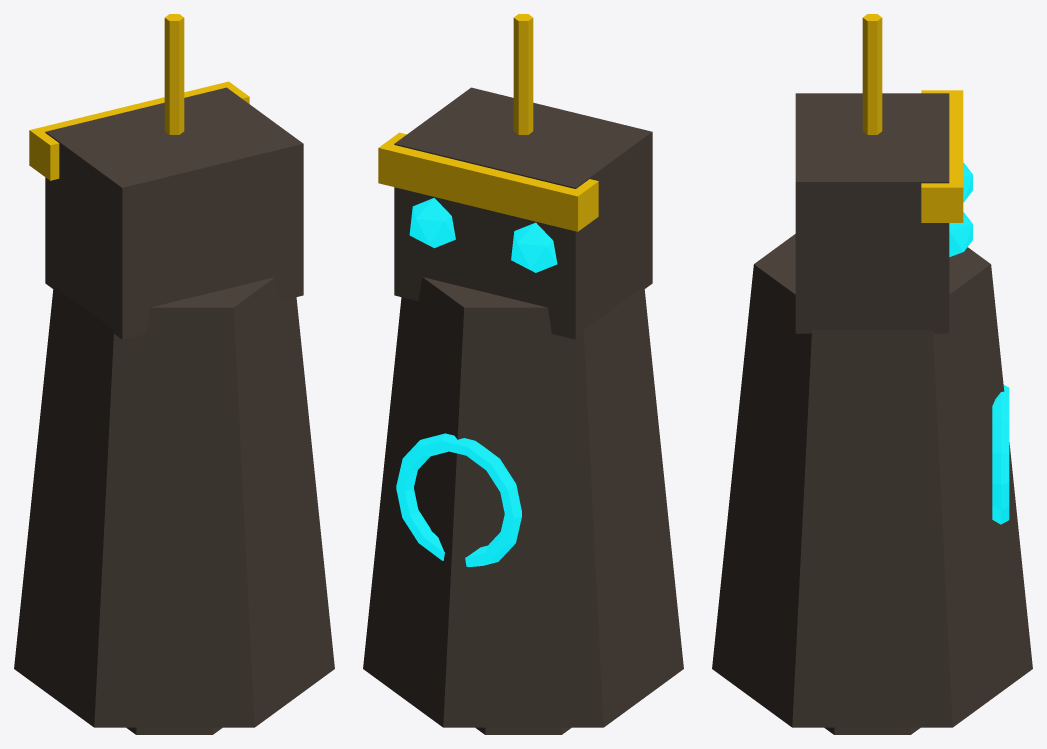
The model's file is idol_dron.glb.
3 views of the same model, side by side, from view 1: azimuth 30°, elevation 25°; view 2: azimuth 150°, elevation 25°; view 3: azimuth 270°, elevation 25° (orthographic).
Visible parts, largest first — view 1: idol_dron; view 2: idol_dron; view 3: idol_dron.
Boxes of the visible parts, <box> form: idol_dron: <box>14,14,334,734</box>; idol_dron: <box>363,14,683,734</box>; idol_dron: <box>712,14,1032,734</box>.
Bounding box in the file's own units: 1.99 × 5.45 × 2.3.
